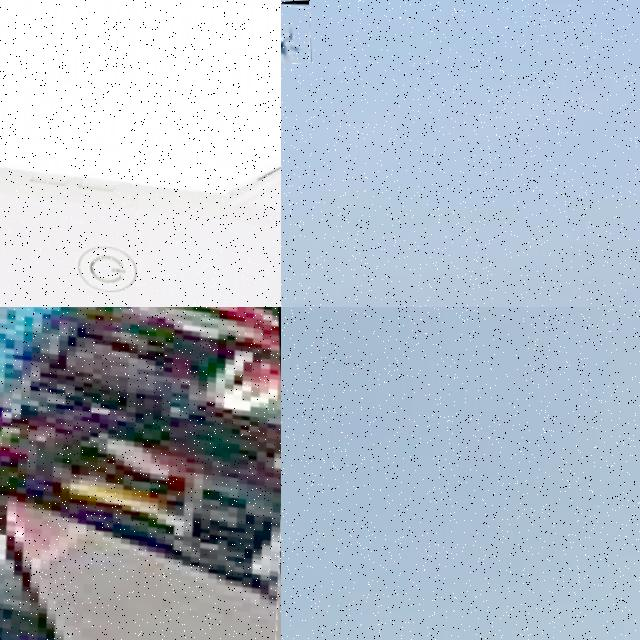0: (281, 0, 312, 65)
drone: (0, 307, 281, 640), (0, 0, 281, 307)
